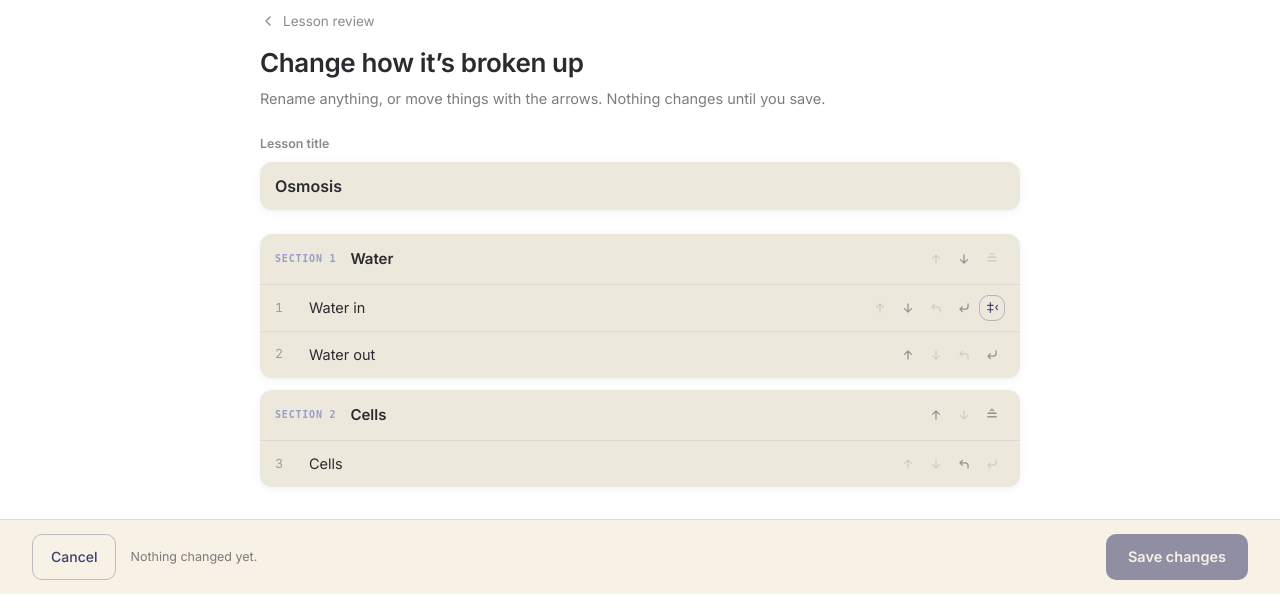
an assigned lesson › keeps the names and puts the order back when the server says it is assigned
The width and height of the screenshot is (1280, 611).
Step 1. Replace the text in the field named "Segment 3 title" with "Inside cells" → [595, 464], box [303,449,887,479]
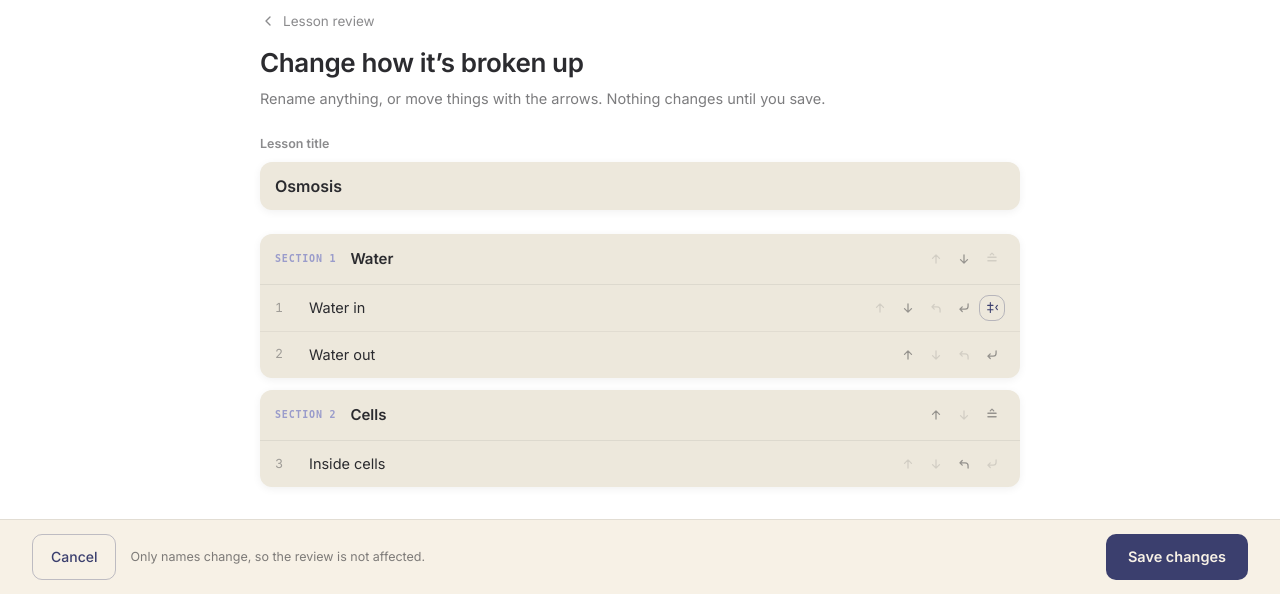
Step 2. Click the button named "Move Water out up" → [908, 355], box [895,342,921,368]
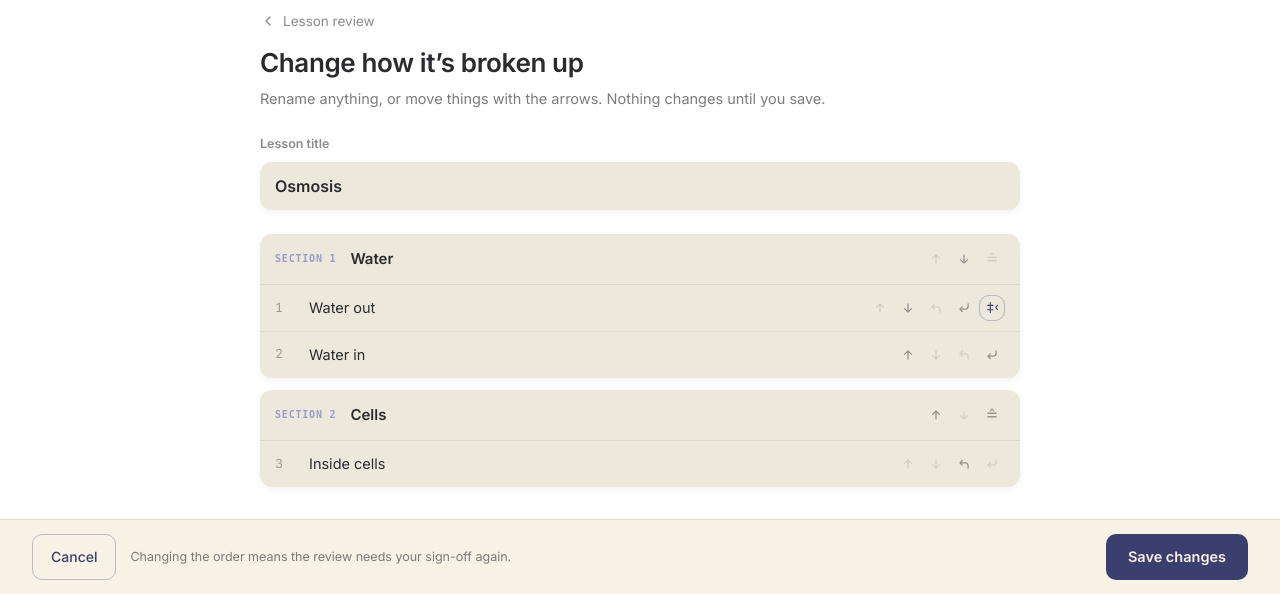
Step 3. Click the button "Save changes" → [1177, 557], box [1106,534,1248,580]
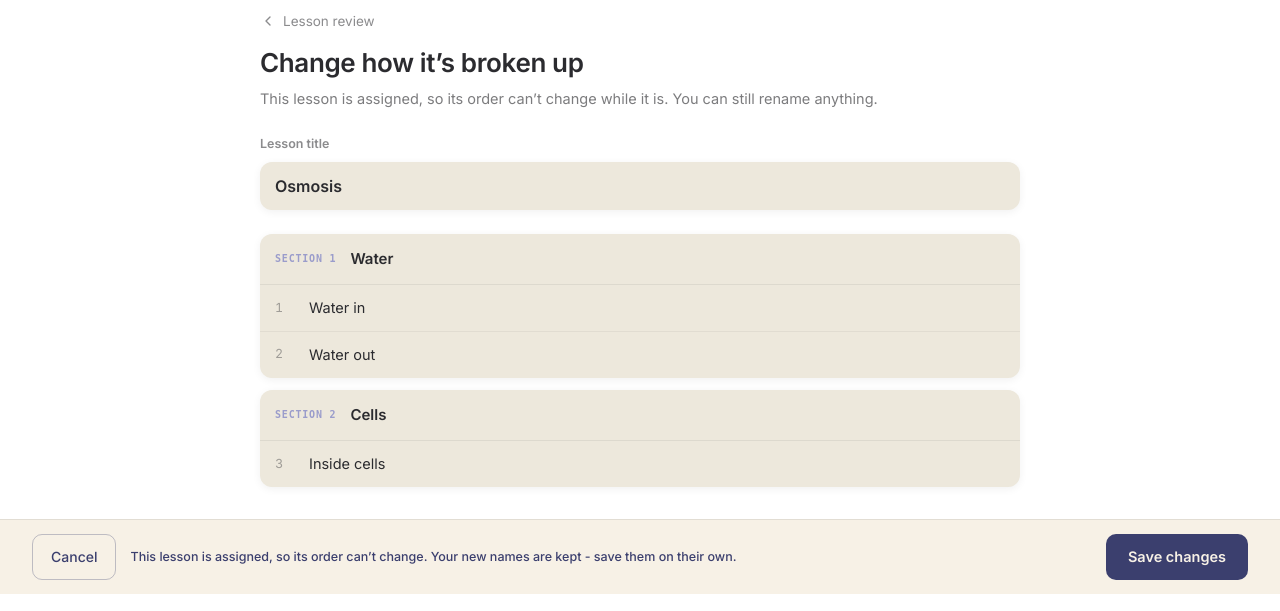
Check: the message shows "This lesson is assigned, so its order can’t change. Your new names are kept - save them on their own.", box [130,549,736,564]
